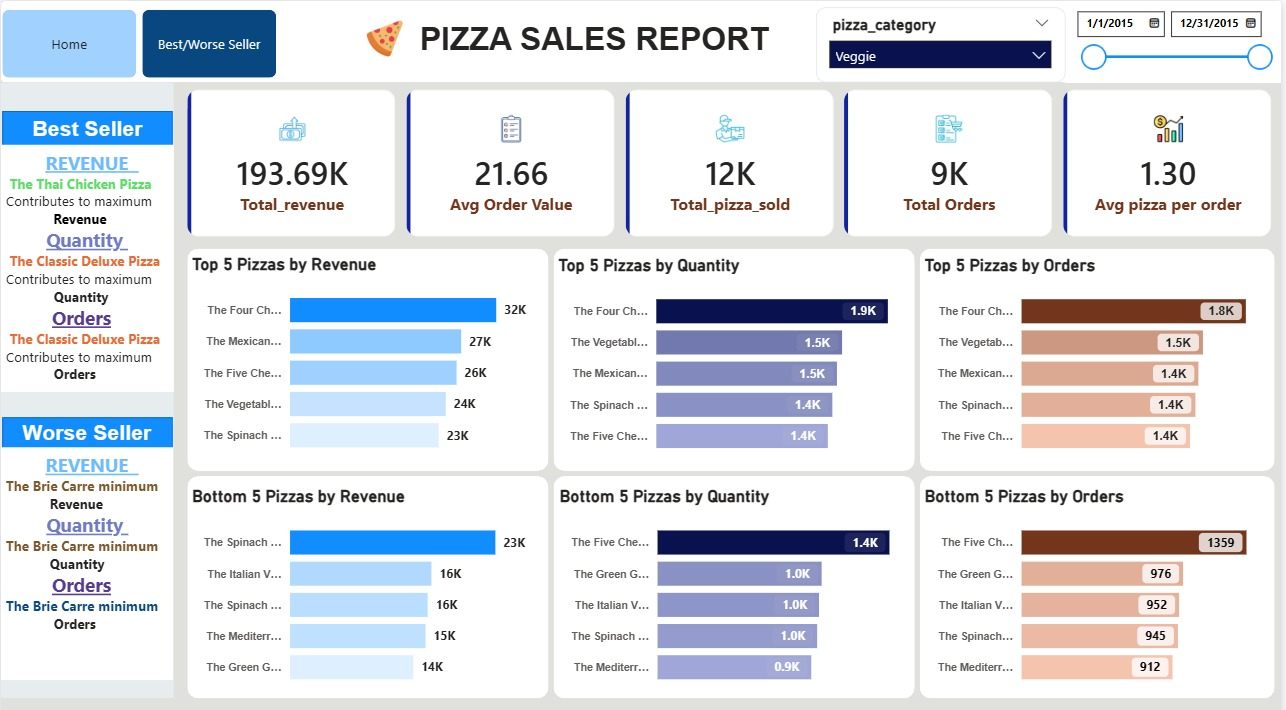

Layout of this report page (visuals, bound fields, positions):
{"tool":"powerbi","page":{"name":"Best/Worse Seller","canvas":[1280,720],"ordinal":1},"visuals":[{"type":"shape","box":[186.2,247.5,361.2,222.5],"z":0},{"type":"cardVisual","fields":{"Data":["Measure.Total_revenue","Measure.Average Order Value","Measure.Total_pizza_sold","Measure.Total Orders","Measure.Average_pizza_per_order"]},"box":[186.4,83.5,1087,157.4],"z":1000},{"type":"shape","box":[0,0,1280,81.2],"z":2000},{"type":"shape","box":[0,81.1,173.1,616.1],"z":3000},{"type":"textbox","box":[414,14.5,400.7,53.3],"z":4000},{"type":"slicer","fields":{"Values":["Cleandar_Table.Date"]},"box":[1064.3,0,215.7,81.4],"z":5000},{"type":"slicer","fields":{"Values":["pizza_sales.pizza_category"]},"box":[814.7,6.1,249.4,75.1],"z":6000},{"type":"image","box":[353.5,19.4,60.5,37.5],"z":7000},{"type":"shape","box":[1.2,110.2,170.7,37.5],"z":8000},{"type":"textbox","box":[0,144.3,173.1,246.9],"z":9000,"group":"g2"},{"type":"shape","box":[552.5,247.5,361.2,222.5],"z":9000},{"type":"textbox","box":[0,445.9,171.9,233],"z":9000,"group":"g3"},{"type":"textbox","box":[0,111.6,173.1,37.5],"z":10000,"group":"g2"},{"type":"shape","box":[918.8,247.5,355,222.5],"z":10000},{"type":"textbox","box":[0,415,171.9,35.4],"z":10000,"group":"g3"},{"type":"shape","box":[186.2,475,361.2,222.5],"z":11000},{"type":"shape","box":[552.5,475,361.2,222.5],"z":12000},{"type":"shape","box":[918.8,475,355,222.5],"z":13000},{"type":"clusteredBarChart","title":"Top 5 Pizzas  by Revenue","fields":{"Category":["pizza_sales.pizza_name"],"Y":["Measure.Total_revenue"]},"box":[186.2,252.5,361.2,212.5],"z":14000},{"type":"clusteredBarChart","title":"Bottom 5 Pizzas by Revenue","fields":{"Category":["pizza_sales.pizza_name"],"Y":["Measure.Total_revenue"]},"box":[186.4,485.4,361.9,211.8],"z":15000},{"type":"clusteredBarChart","title":"Top 5 Pizzas  by Quantity","fields":{"Category":["pizza_sales.pizza_name"],"Y":["Measure.Total_pizza_sold"]},"box":[552,254.2,361.9,211.8],"z":16000},{"type":"clusteredBarChart","title":"Bottom 5 Pizzas  by Quantity","fields":{"Category":["pizza_sales.pizza_name"],"Y":["Measure.Total_pizza_sold"]},"box":[553.2,485.4,361.9,211.8],"z":17000},{"type":"clusteredBarChart","title":"Top 5 Pizzas  by Orders","fields":{"Category":["pizza_sales.pizza_name"],"Y":["Measure.Total Orders"]},"box":[918.8,254.2,354.7,211.8],"z":18000},{"type":"clusteredBarChart","title":"Bottom 5 Pizzas  by Orders","fields":{"Category":["pizza_sales.pizza_name"],"Y":["Measure.Total Orders"]},"box":[918.8,485.4,354.7,211.8],"z":19000},{"type":"group","id":"g1","title":"Group 1","box":[0,111.6,173.1,279.6],"z":20000},{"type":"group","id":"g2","title":"Group 2","box":[0,111.6,173.1,279.6],"z":20001,"group":"g1"},{"type":"group","id":"g3","title":"Group 2","box":[0,415,171.9,263.9],"z":20001,"group":"g4"},{"type":"shape","box":[1.2,416.4,170.7,37.5],"z":21000},{"type":"group","id":"g4","title":"Group 1","box":[0,415,171.9,263.9],"z":22000},{"type":"pageNavigator","box":[1.2,8.5,274.8,69],"z":23000}]}

Visuals, with their boxes in screenshot pixels (x1, y1, x2, y2), scaled from the page's 1280x720 canvas onto the 1286x710 screenshot:
shape: bbox=[187, 244, 550, 463]
cardVisual - Measure.Total_revenue x Measure.Average Order Value: bbox=[187, 82, 1279, 238]
shape: bbox=[0, 0, 1285, 80]
shape: bbox=[0, 80, 174, 688]
textbox: bbox=[416, 14, 819, 67]
slicer - Cleandar_Table.Date: bbox=[1069, 0, 1285, 80]
slicer - pizza_sales.pizza_category: bbox=[819, 6, 1069, 80]
image: bbox=[355, 19, 416, 56]
shape: bbox=[1, 109, 173, 146]
textbox: bbox=[0, 142, 174, 386]
shape: bbox=[555, 244, 918, 463]
textbox: bbox=[0, 440, 173, 669]
textbox: bbox=[0, 110, 174, 147]
shape: bbox=[923, 244, 1280, 463]
textbox: bbox=[0, 409, 173, 444]
shape: bbox=[187, 468, 550, 688]
shape: bbox=[555, 468, 918, 688]
shape: bbox=[923, 468, 1280, 688]
"Top 5 Pizzas  by Revenue" clusteredBarChart: bbox=[187, 249, 550, 459]
"Bottom 5 Pizzas by Revenue" clusteredBarChart: bbox=[187, 479, 551, 688]
"Top 5 Pizzas  by Quantity" clusteredBarChart: bbox=[555, 251, 918, 460]
"Bottom 5 Pizzas  by Quantity" clusteredBarChart: bbox=[556, 479, 919, 688]
"Top 5 Pizzas  by Orders" clusteredBarChart: bbox=[923, 251, 1279, 460]
"Bottom 5 Pizzas  by Orders" clusteredBarChart: bbox=[923, 479, 1279, 688]
"Group 1" group: bbox=[0, 110, 174, 386]
"Group 2" group: bbox=[0, 110, 174, 386]
"Group 2" group: bbox=[0, 409, 173, 669]
shape: bbox=[1, 411, 173, 448]
"Group 1" group: bbox=[0, 409, 173, 669]
pageNavigator: bbox=[1, 8, 277, 76]
